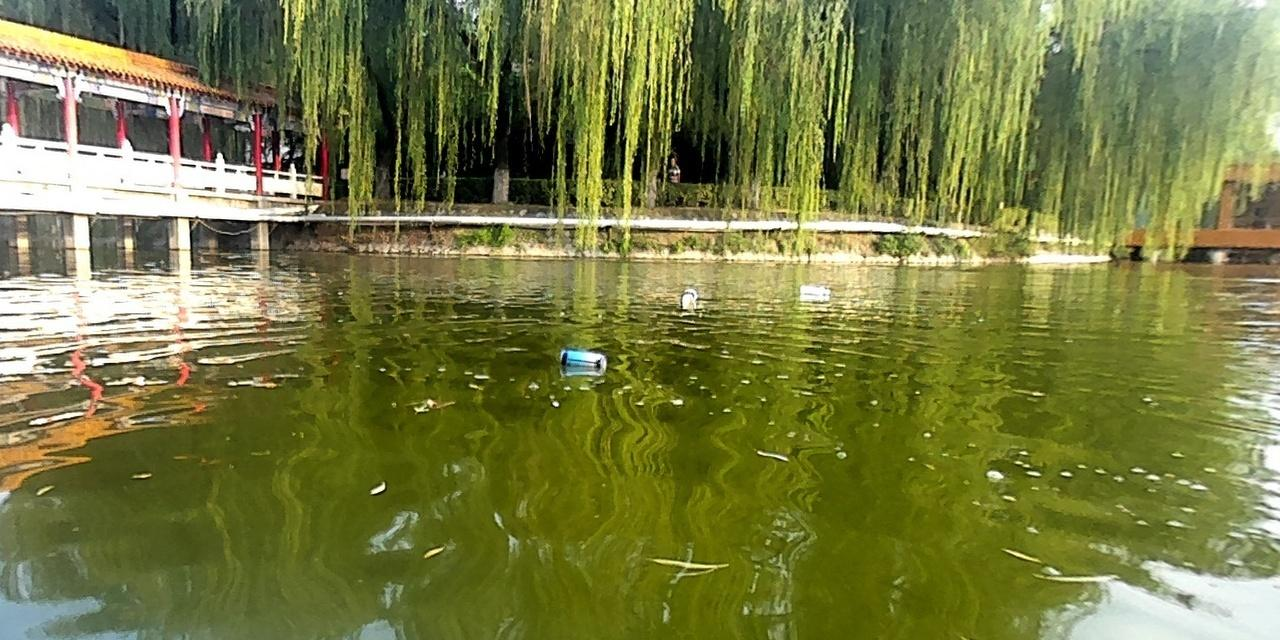bottle: (557, 347, 606, 371), (674, 284, 700, 308), (797, 282, 831, 297)
